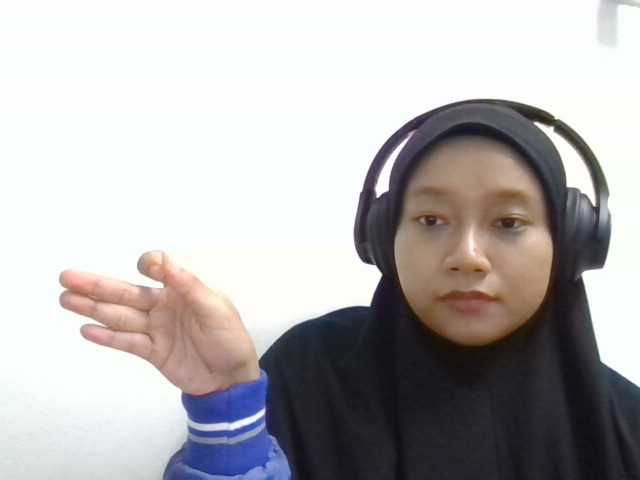Tudung: (58, 247, 261, 395)
